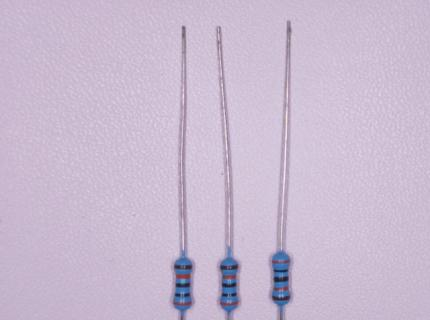Black band: (274, 277, 289, 282), (176, 283, 190, 287), (222, 293, 236, 297), (223, 283, 236, 287), (175, 294, 189, 296), (275, 270, 289, 272)
Brown band: (221, 265, 238, 270), (273, 296, 290, 301), (175, 265, 192, 269)
Orange band: (221, 301, 238, 306), (174, 302, 192, 306), (176, 274, 190, 279), (273, 260, 290, 264), (222, 275, 237, 279), (274, 287, 289, 290)
